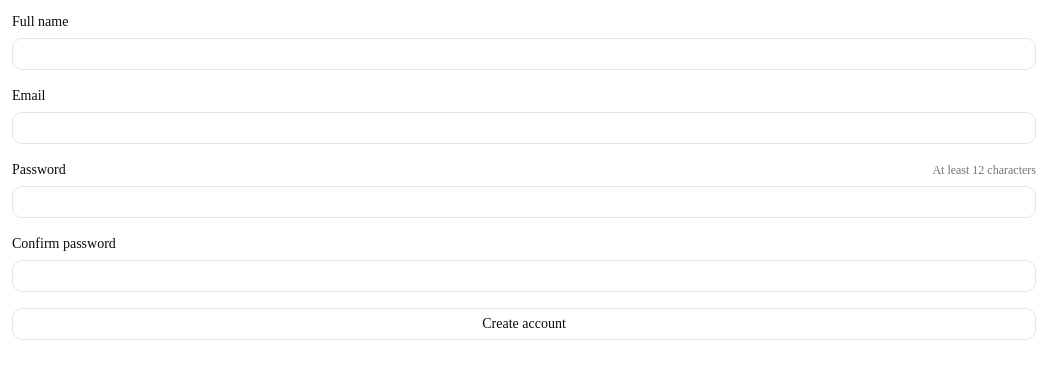
SignupForm › displays field-level validation errors returned by the action
Type "Ada Lovelace" into the field labelled "Full name" at x=524, y=54, box [12,38,1036,70]
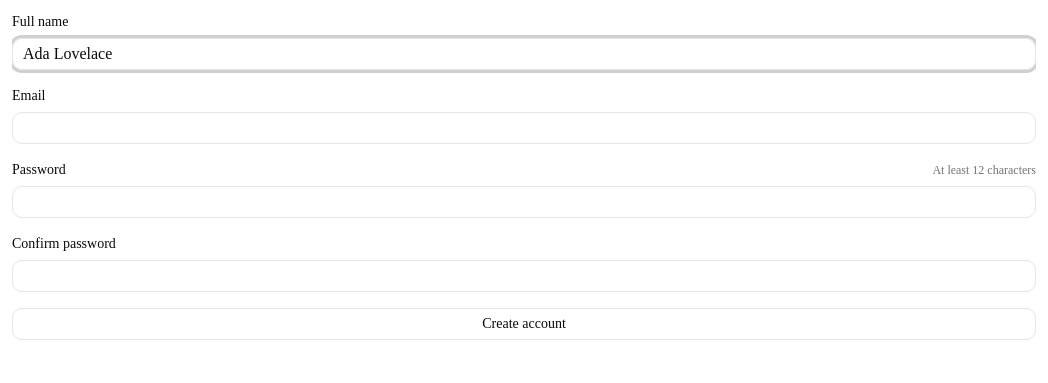
Type "ada@example.com" into the field labelled "Email" at x=524, y=128, box [12,112,1036,144]
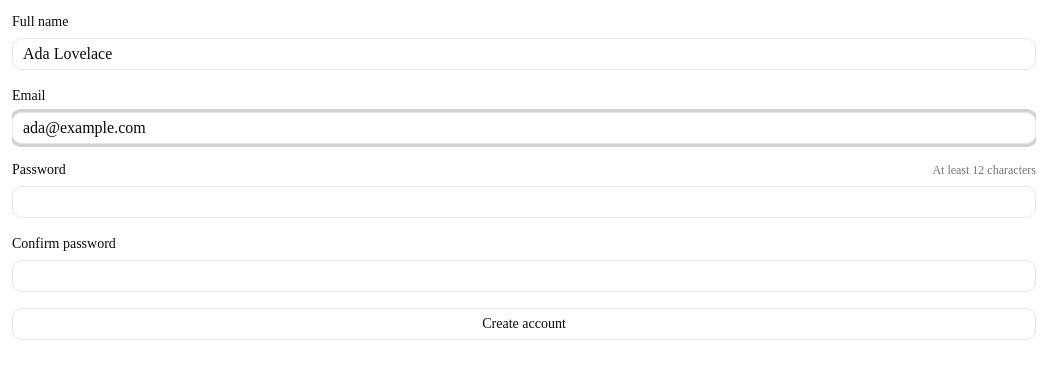
Type "hunter2hunter2" into the password field labelled "Password" at x=524, y=202, box [12,186,1036,218]
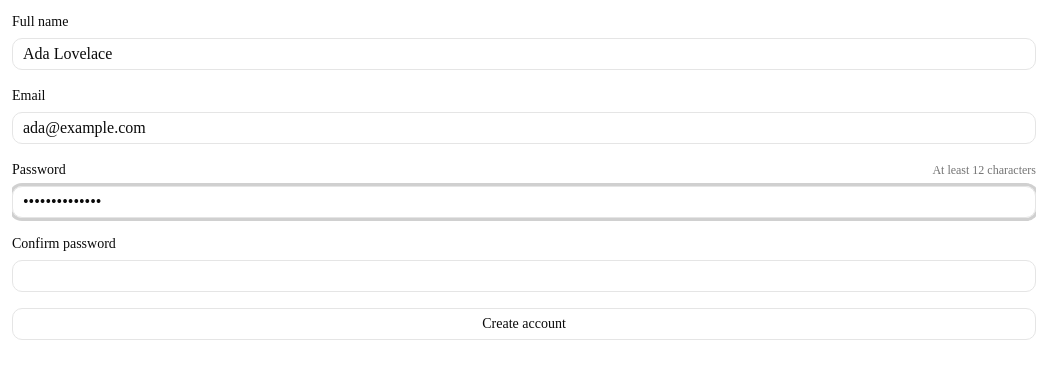
Type "somethingElse123" into the password field labelled "Confirm password" at x=524, y=276, box [12,260,1036,292]
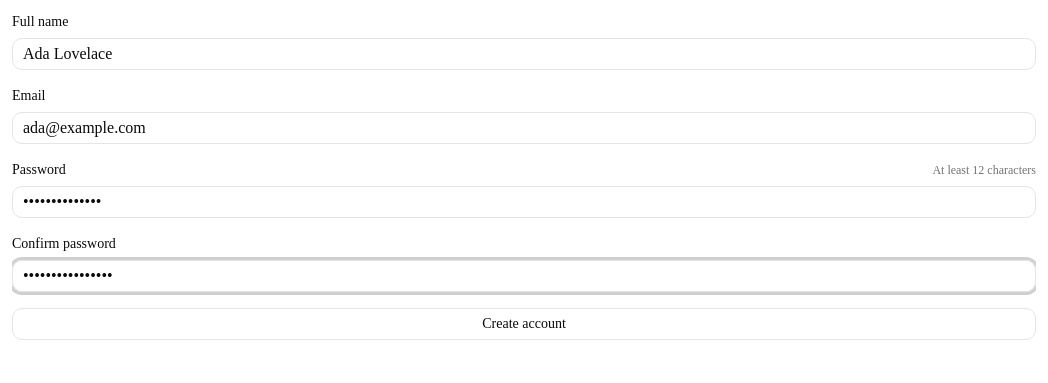
Click the button "Create account" at x=524, y=324, box [12,308,1036,340]
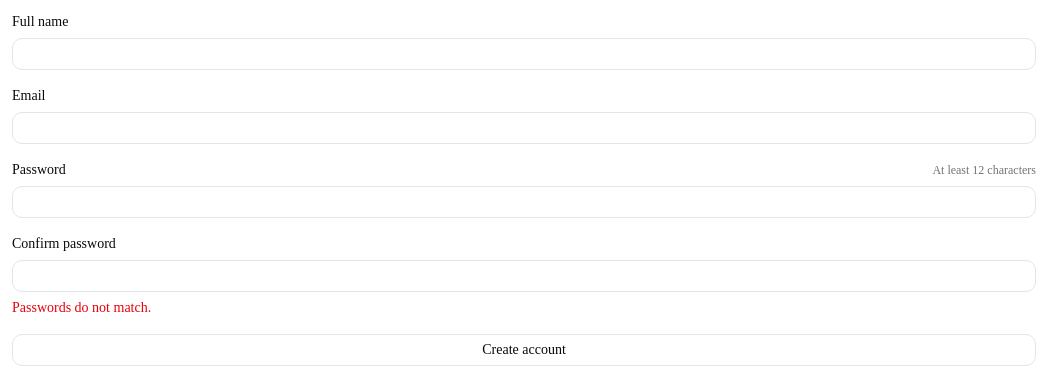
Expected: the text "Passwords do not match." is shown, [12,300,151,315]
